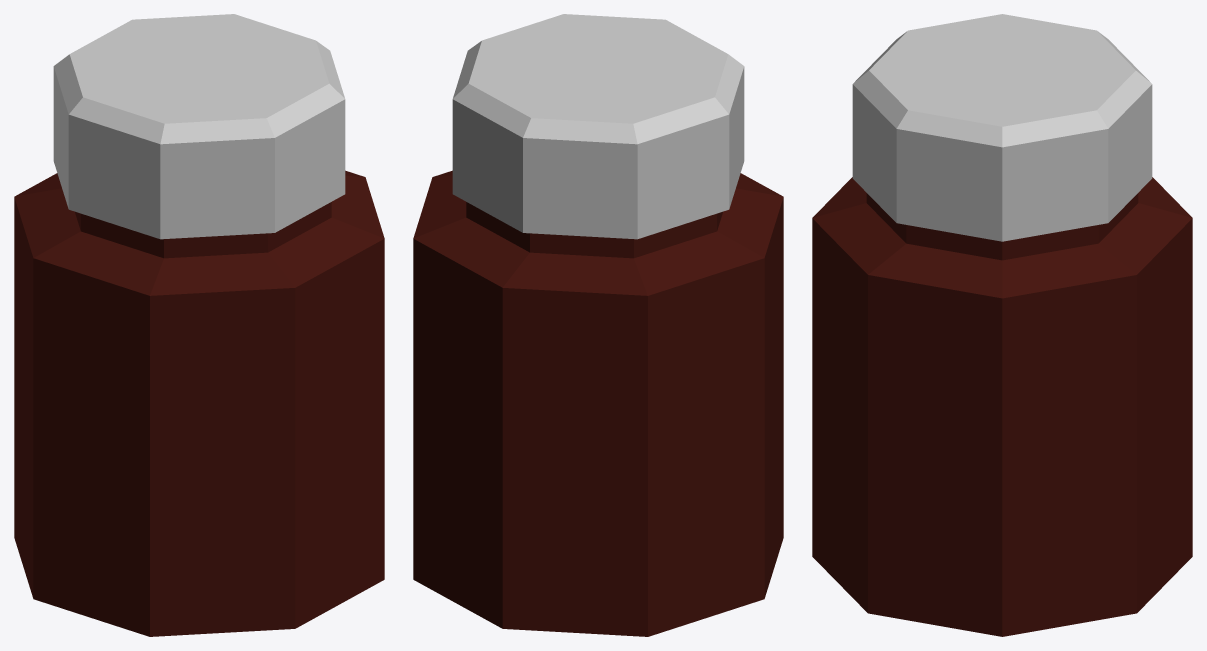
The model's file is Drugs_Jar_vc.fbx.
3 views of the same model, side by side, from view 1: azimuth 30°, elevation 25°; view 2: azimuth 150°, elevation 25°; view 3: azimuth 270°, elevation 25° (orthographic).
Visible parts, largest first — view 1: Drugs_Jar_vc; view 2: Drugs_Jar_vc; view 3: Drugs_Jar_vc.
Part boxes in pixels (box(x1,y1,x2,y2)): Drugs_Jar_vc: box(14, 14, 384, 636); Drugs_Jar_vc: box(413, 14, 783, 636); Drugs_Jar_vc: box(812, 14, 1192, 636).
Bounding box in the file's own units: 4.46 × 6.28 × 4.46.
